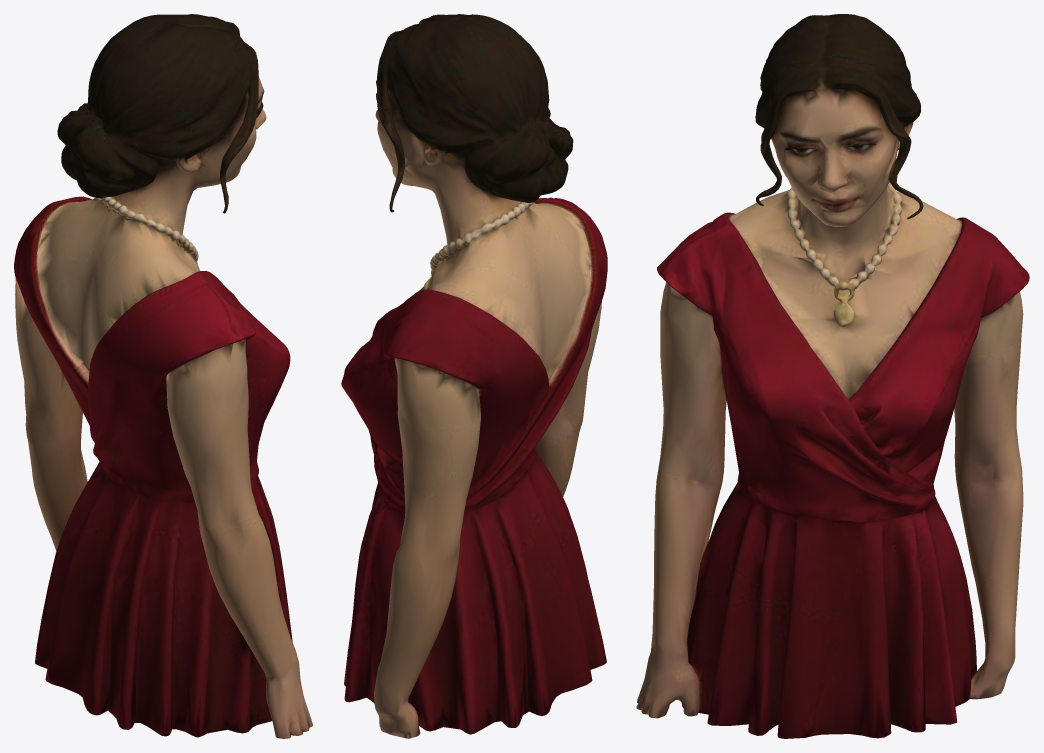
The model's file is modelfix.glb.
The picture shows the model from 3 angles, left to right: view 1: azimuth 30°, elevation 25°; view 2: azimuth 150°, elevation 25°; view 3: azimuth 270°, elevation 25°; orthographic projection. The views are drawn at different scales.
Size of the model in its own units: 0.3152 by 1 by 0.5308.
Materials: 1 (1 with a texture image).
